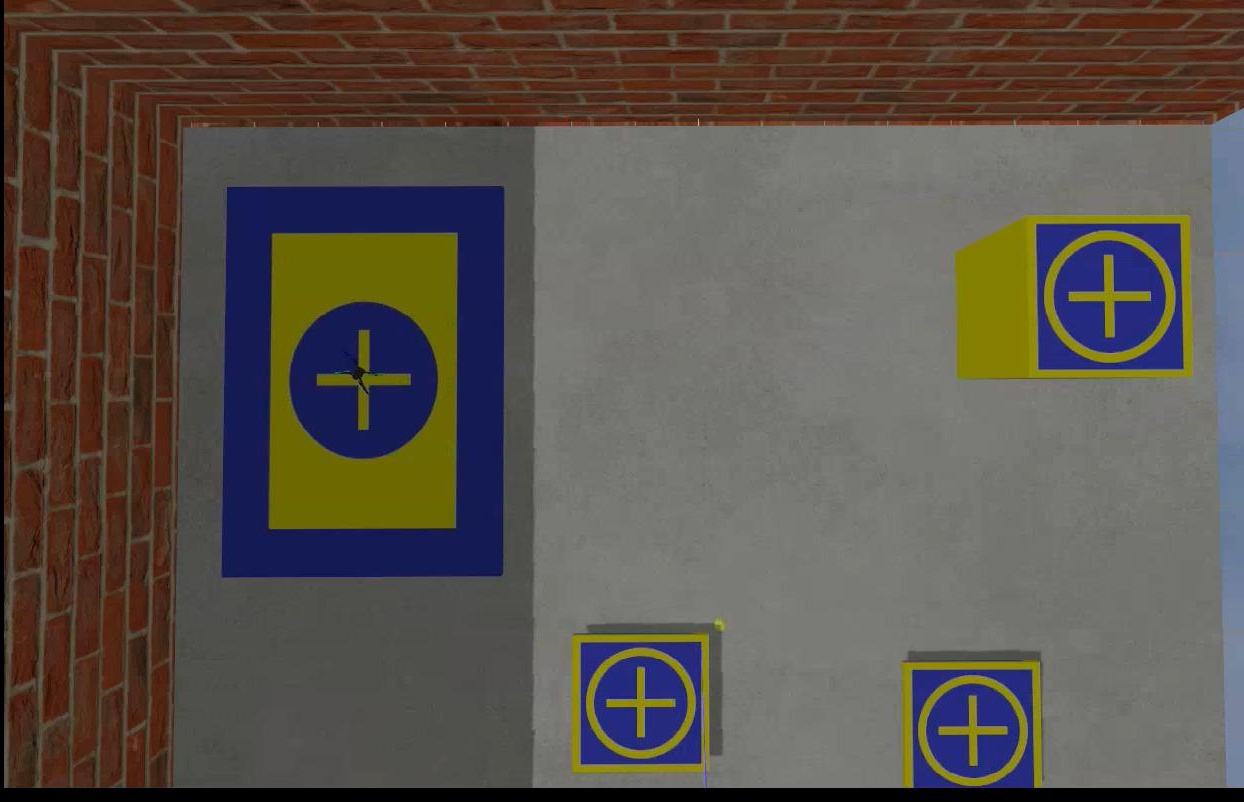large_base: (216, 182, 503, 579)
small_base: (1023, 213, 1192, 380), (566, 631, 712, 770), (901, 658, 1041, 791)
